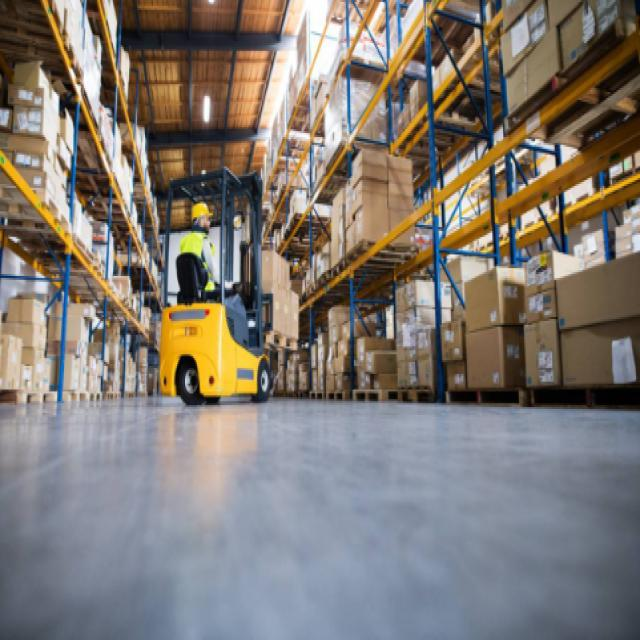hard_hat: (191, 200, 214, 233)
vest: (178, 230, 219, 294)
